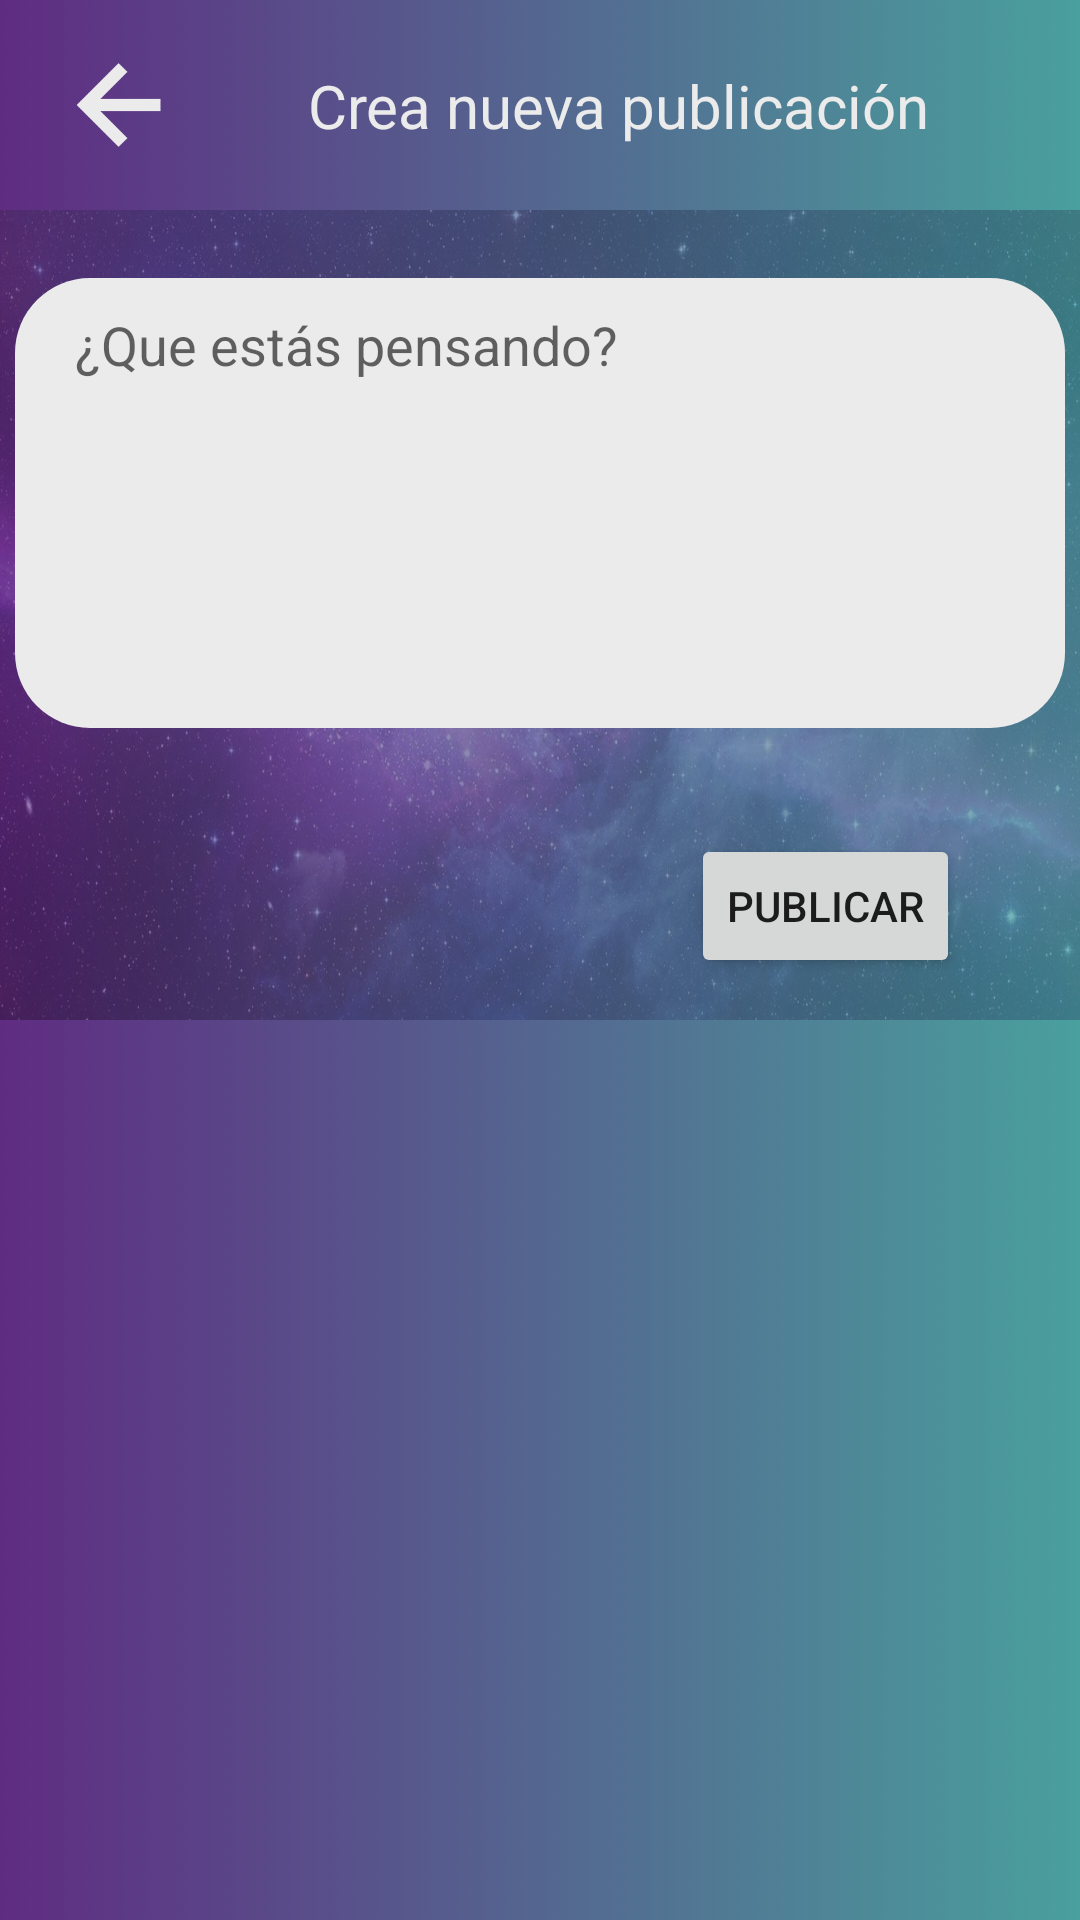

Locate icon controls on the screen. Image size 1080w x 1920h, boxes as (x1, y1, x2, y2).
left arrow: (77, 63, 161, 147)
